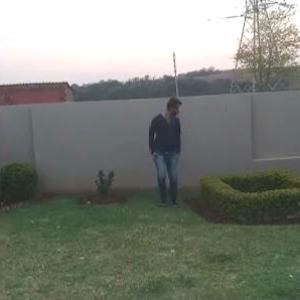follow: (146, 92, 183, 216)
